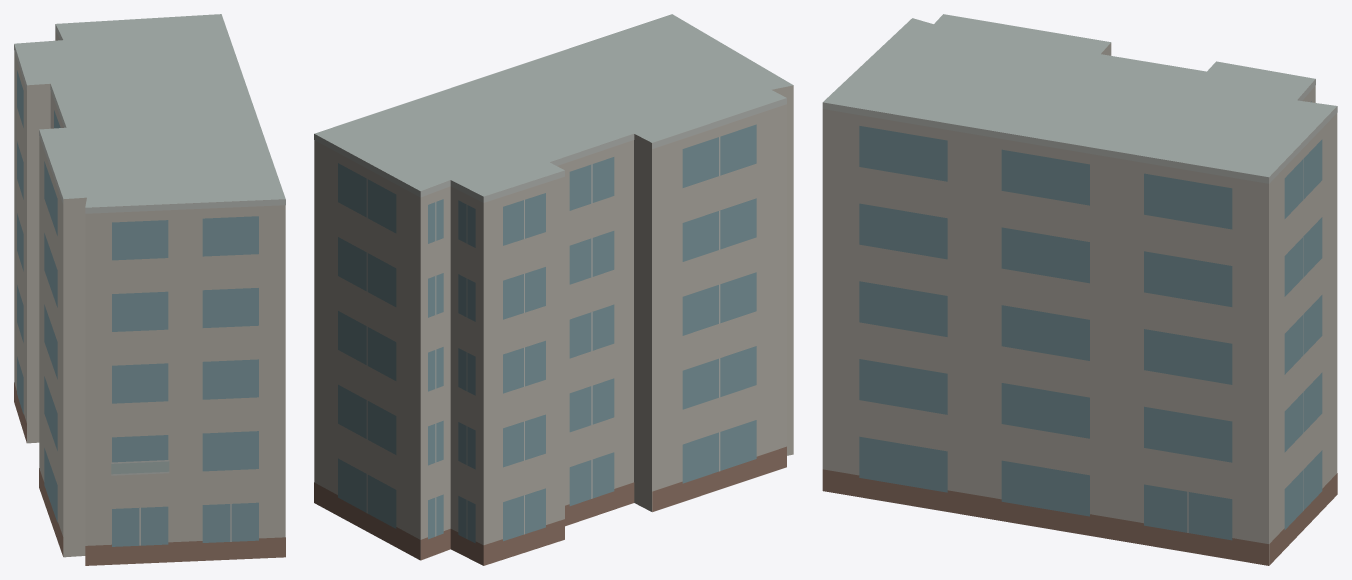
Rendered from survey-upis-33003312.glb.
3 views of the same model, side by side, from view 1: azimuth 30°, elevation 25°; view 2: azimuth 150°, elevation 25°; view 3: azimuth 270°, elevation 25° (orthographic). The views are drawn at different scales.
Visible parts, largest first — view 1: survey-upis-33003312.tmp; view 2: survey-upis-33003312.tmp; view 3: survey-upis-33003312.tmp.
Part boxes in pixels (left/top/right/bottom): survey-upis-33003312.tmp: left=14, top=14, right=285, bottom=565; survey-upis-33003312.tmp: left=314, top=14, right=793, bottom=565; survey-upis-33003312.tmp: left=822, top=14, right=1337, bottom=565.
Bounding box in the file's own units: 12.98 × 14.4 × 17.3.
